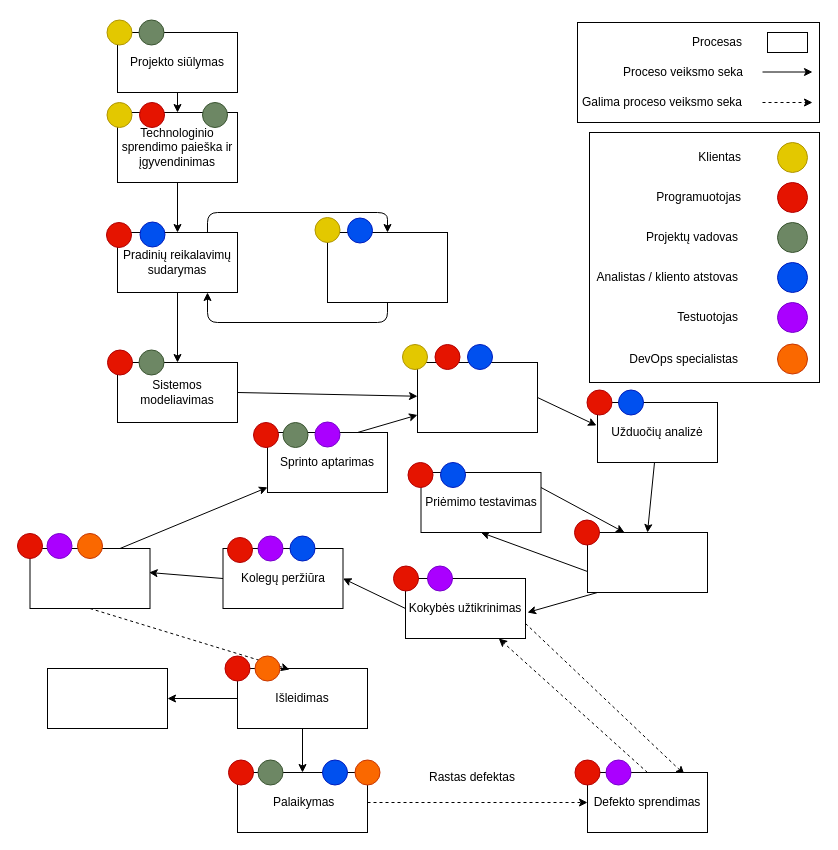
Image size: 838x850. Some labels were removed from this diagram. Here are the shapes that lost their labels. From the top down, the centre of each, then its label:
At point 387,267: "Susitikimai su klientu, funkcionalumo tikslinimas".
At point 477,397: "Sprinto reikalavimų tikslinimas ir vertinimas".
At point 89,578: "Konfigūracijos valdymas".
At point 647,562: "Programavimas".
At point 107,698: "Balius".
